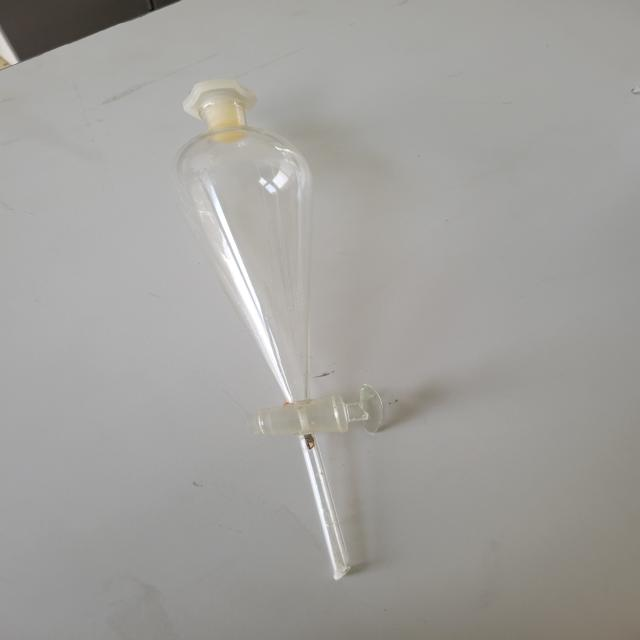Separating_Funnel: (142, 62, 462, 598)
